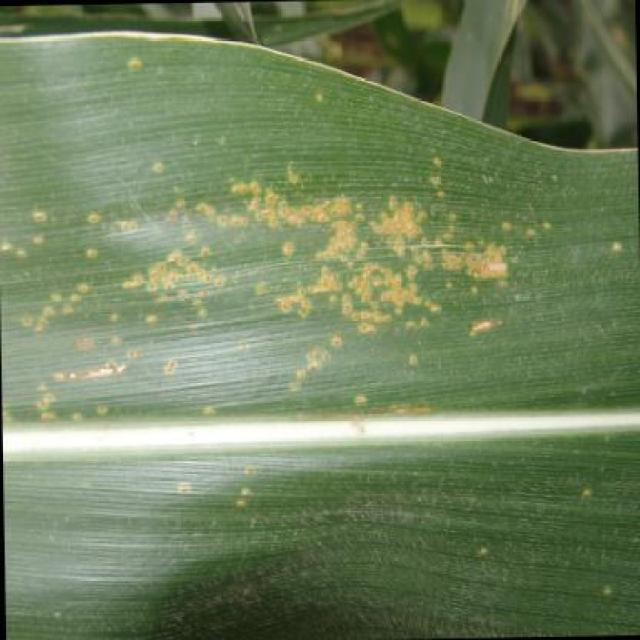Corn_Rust: (5, 32, 623, 416)
